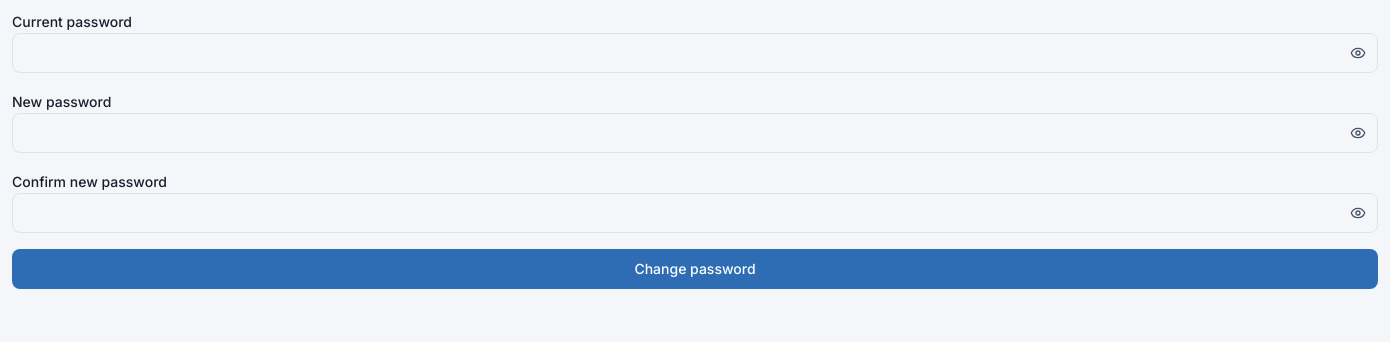
Test: ChangePasswordForm › shows mismatch error when new and confirm passwords differ
Type "oldpass" into the password field labelled "Current password". click: (695,53)
box: [12,33,1378,73]
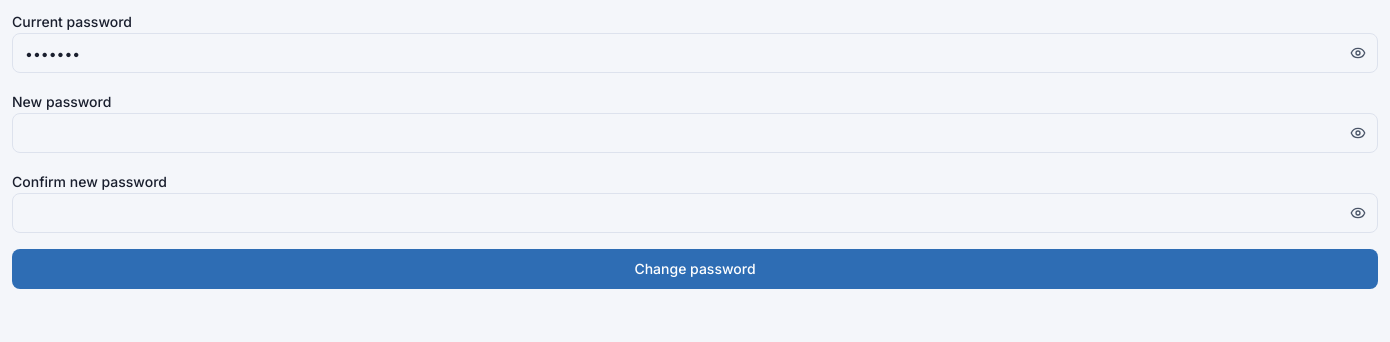
Type "newpass1" into the password field labelled "New password". click: (695,133)
box: [12,113,1378,153]
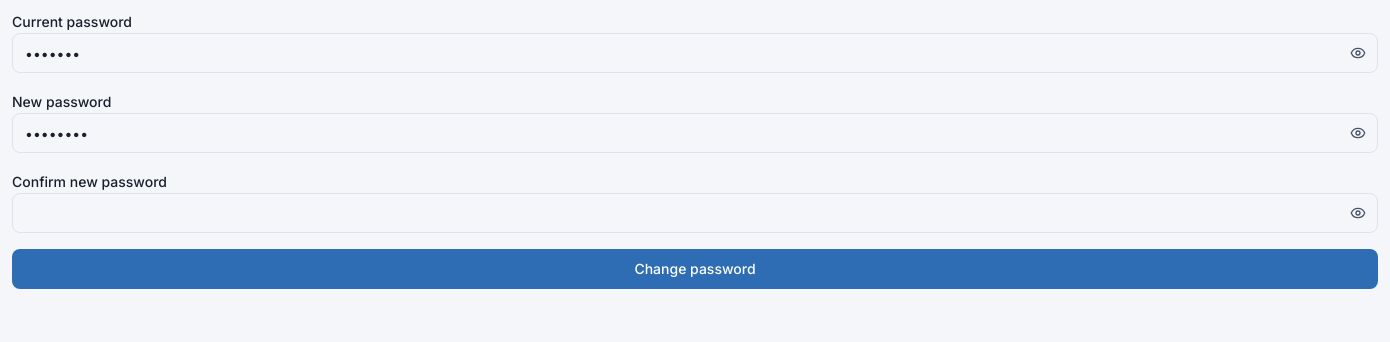
Type "newpass2" into the password field labelled "Confirm new password". click: (695,213)
box: [12,193,1378,233]
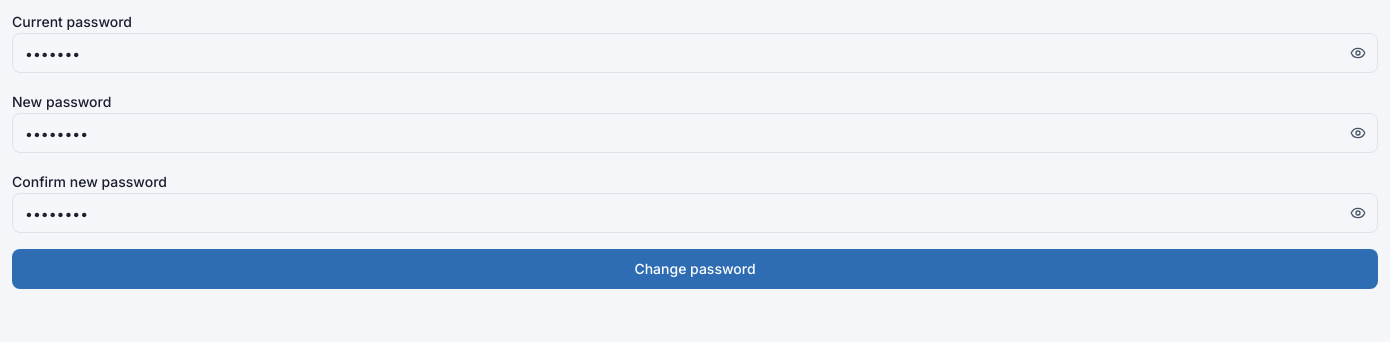
Click the button "Change password". click: (695,269)
box: [12,249,1378,289]
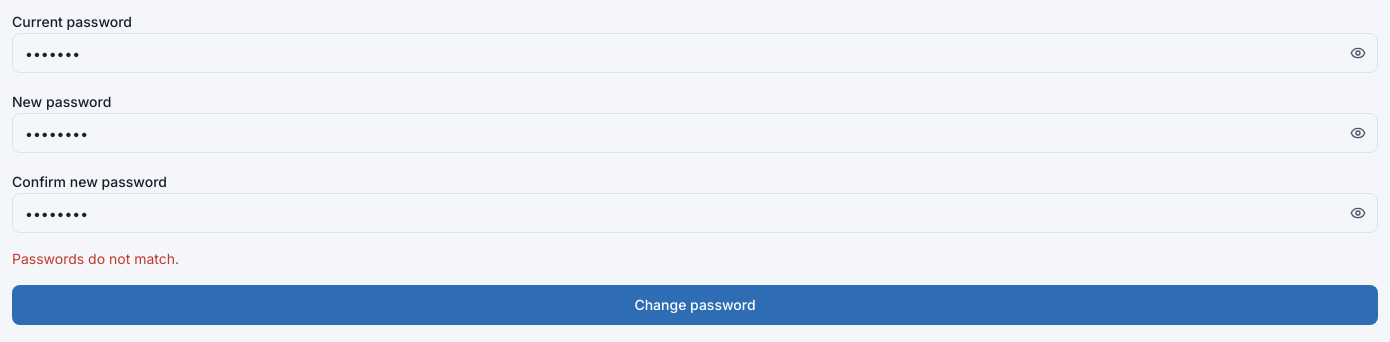
Expected: the message shows "do not match", [12,250,179,267]
